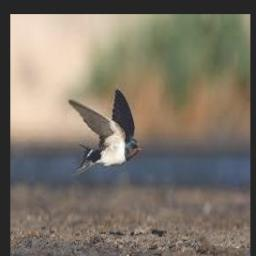Swallow: (68, 89, 142, 175)
